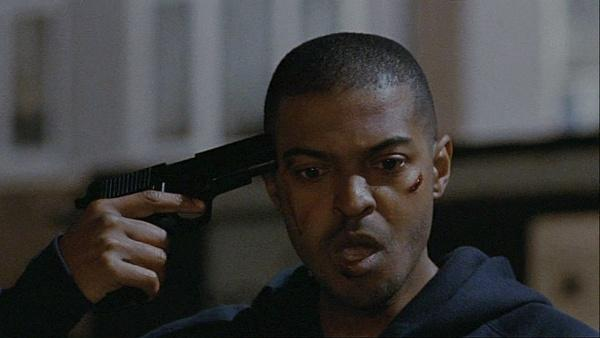Gun: (75, 134, 280, 234)
